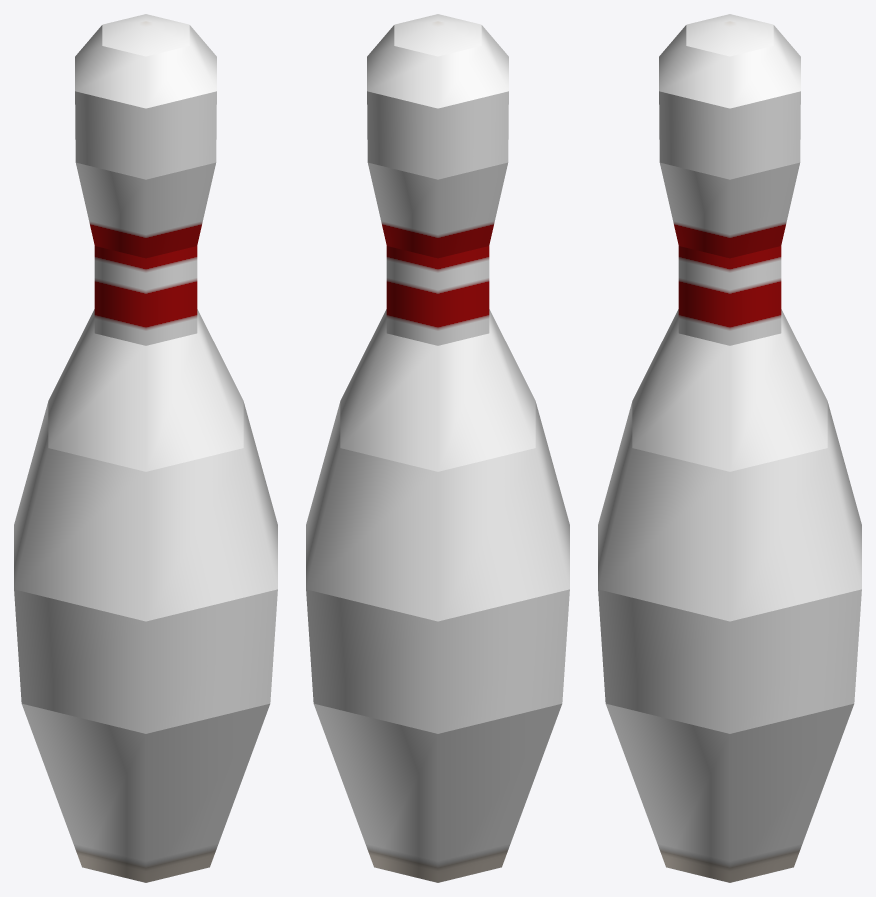
Rendered from bowling_pin.FBX.
3 renders of one model, left to right at view 1: azimuth 30°, elevation 25°; view 2: azimuth 150°, elevation 25°; view 3: azimuth 270°, elevation 25°, orthographic.
Parts seen in each view (by area): view 1: Line002; view 2: Line002; view 3: Line002.
Boxes of the visible parts, x1,y1,x2,y2 form: Line002: (14, 14, 277, 882); Line002: (306, 14, 569, 882); Line002: (598, 14, 861, 882).
Bounding box in the file's own units: 57.43 × 173 × 49.74.
